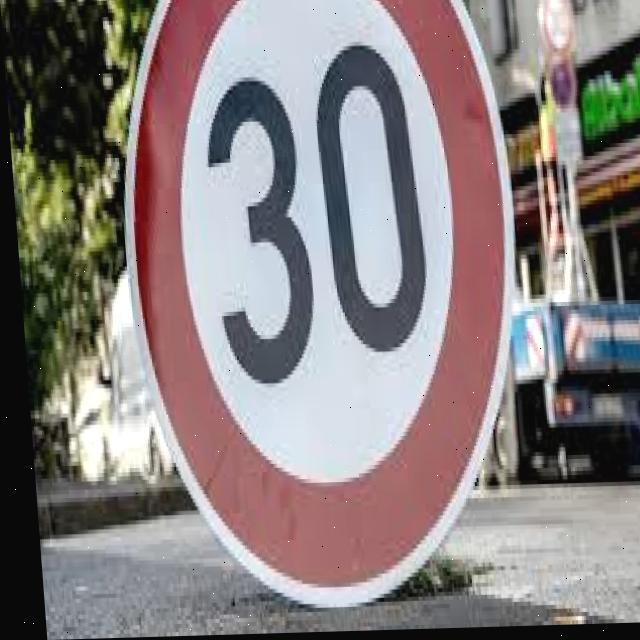Speed limit 30: (106, 1, 536, 615)
